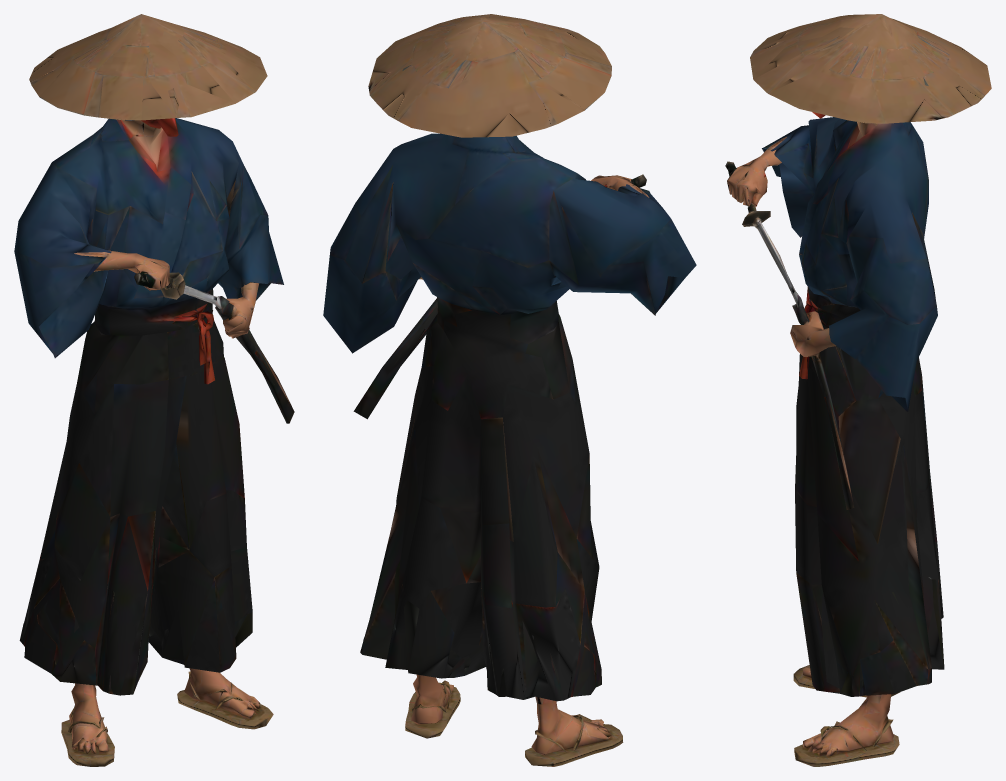
The model's file is p5-mobile.glb.
3 renders of one model, left to right at view 1: azimuth 30°, elevation 25°; view 2: azimuth 150°, elevation 25°; view 3: azimuth 270°, elevation 25°, orthographic. The views are drawn at different scales.
Visible parts, largest first — view 1: geometry_0; view 2: geometry_0; view 3: geometry_0.
Part boxes in pixels (box(x1,y1,x2,y2)): geometry_0: box(14, 14, 294, 766); geometry_0: box(323, 14, 696, 766); geometry_0: box(725, 14, 991, 766).
Bounding box in the file's own units: 0.8056 × 1.8 × 0.6157.
1 material, 1 textured.
